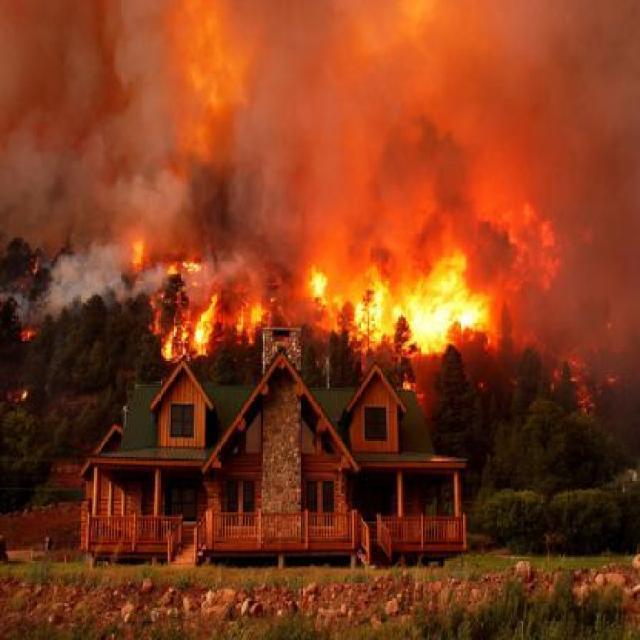Fire: (140, 220, 492, 365)
Smoke: (0, 0, 627, 395)
